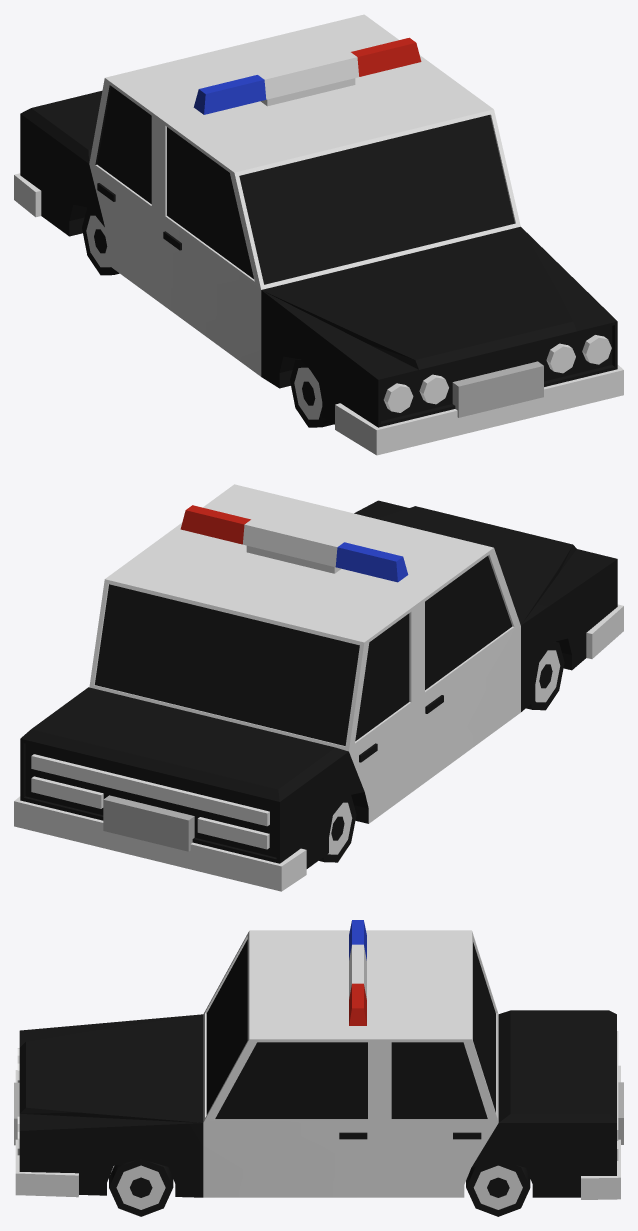
Rendered from Car_Police.FBX.
3 renders of one model, top to bottom at view 1: azimuth 30°, elevation 25°; view 2: azimuth 150°, elevation 25°; view 3: azimuth 270°, elevation 25°, orthographic. The views are drawn at different scales.
Visible parts, largest first — view 1: Box003; view 2: Box003; view 3: Box003.
Boxes of the visible parts, box(x1,y1,x2,y2) form: Box003: box(14, 14, 623, 455); Box003: box(14, 484, 623, 891); Box003: box(14, 920, 623, 1216).
Bounding box in the file's own units: 1.81 × 1.53 × 4.11.
